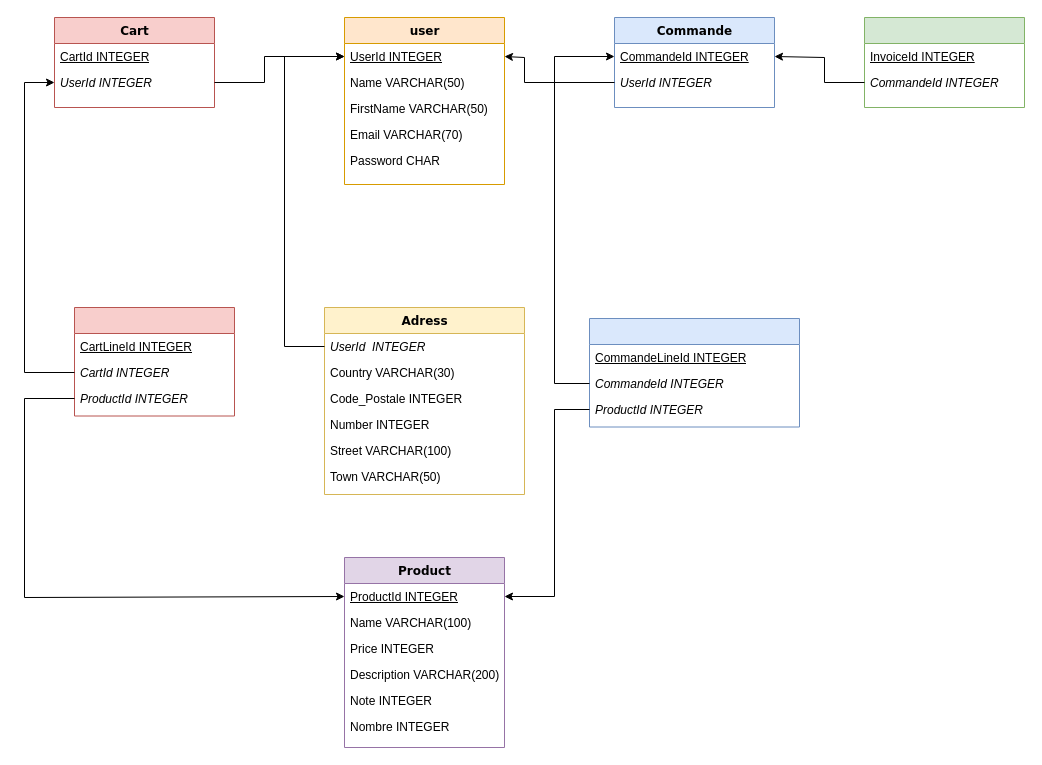
Image size: 1042x765. Some labels were removed from this diagram. The box of each missing label's shape, as (x1, y1, x2, y2) in pixels:
Cart_Items: (74, 306, 234, 416)
Commande_Items: (588, 318, 800, 427)
Invoices: (864, 16, 1024, 108)
